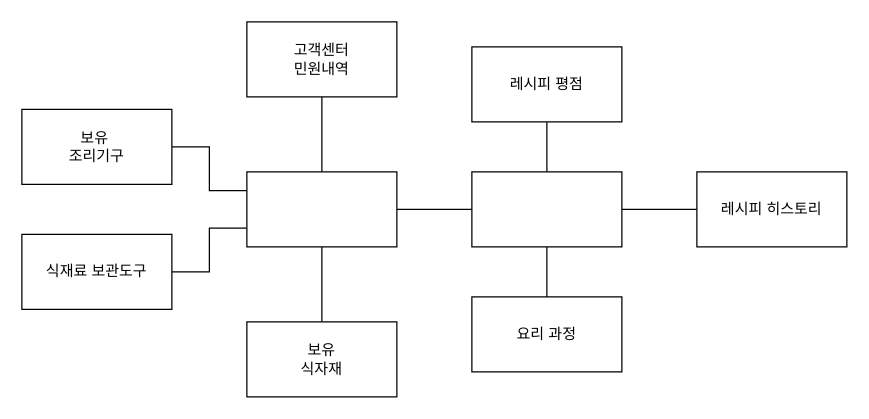
The diagram is 869 pixels wide and 419 high, and some of its shapes have lost their labels. Each missing label, with the centre of its shape:
"레시피" belongs at point 546,209.
"회원정보" belongs at point 321,209.
